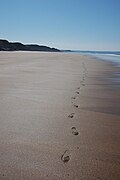human_footprint: (61, 150, 70, 163), (71, 126, 78, 135), (68, 113, 75, 118)
